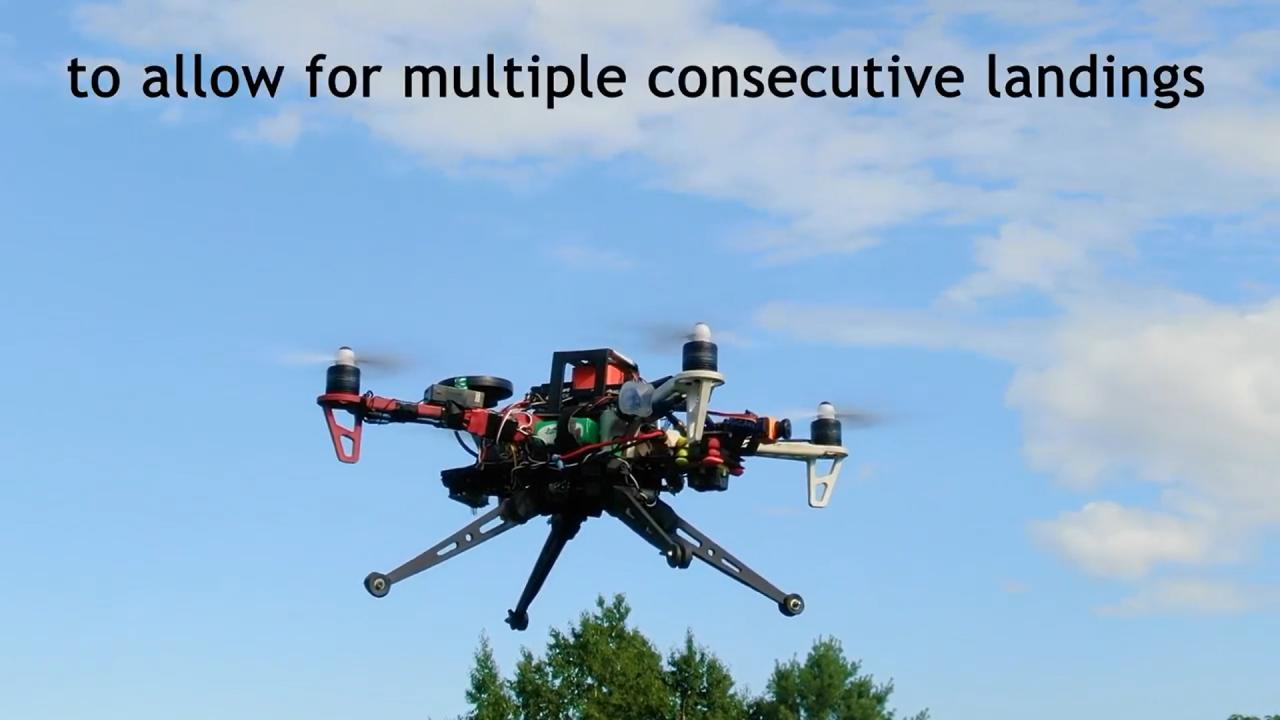Drone: (259, 302, 935, 642)
